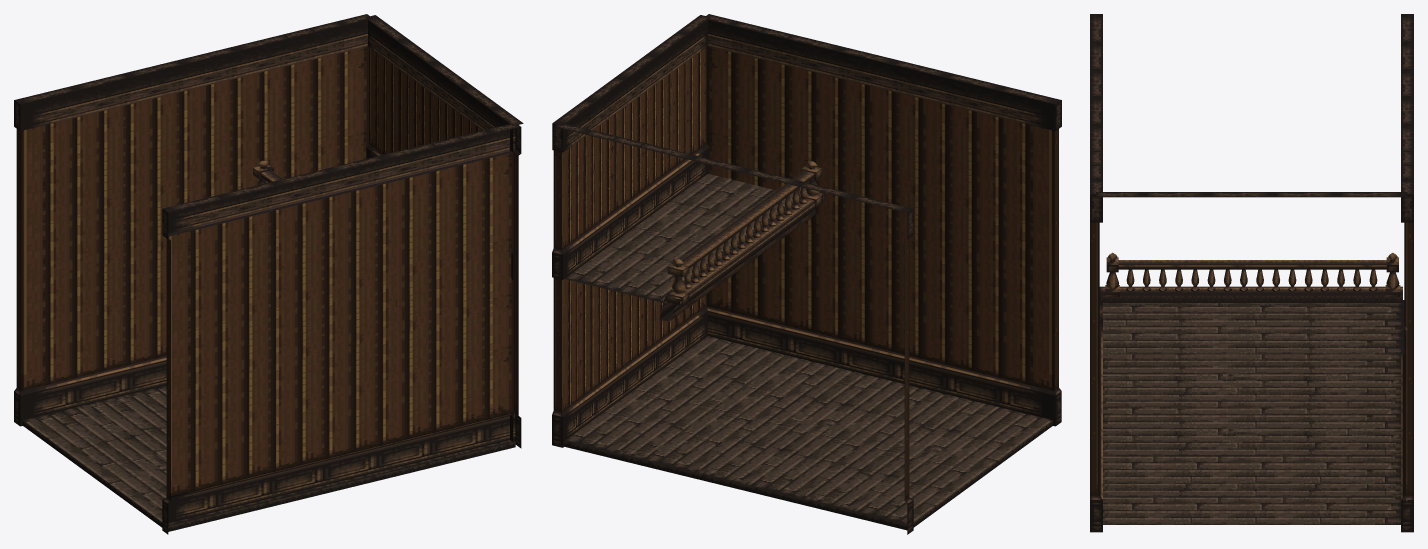
Rendered from EnvBdgMD_Wilderness_A_Indoor_A_Shop_Item_BR.FBX.
The picture shows the model from 3 angles, left to right: view 1: azimuth 30°, elevation 25°; view 2: azimuth 150°, elevation 25°; view 3: azimuth 270°, elevation 25°; orthographic projection. The views are drawn at different scales.
Visible parts, largest first — view 1: EnvBdgMD_Wilderness_A_Indoor_A_Shop_Item_BR; view 2: EnvBdgMD_Wilderness_A_Indoor_A_Shop_Item_BR; view 3: EnvBdgMD_Wilderness_A_Indoor_A_Shop_Item_BR.
Part boxes in pixels (box(x1,y1,x2,y2)): EnvBdgMD_Wilderness_A_Indoor_A_Shop_Item_BR: box(14, 14, 523, 534); EnvBdgMD_Wilderness_A_Indoor_A_Shop_Item_BR: box(552, 14, 1061, 534); EnvBdgMD_Wilderness_A_Indoor_A_Shop_Item_BR: box(1090, 14, 1413, 532).
Bounding box in the file's own units: 1340 × 1150 × 1000.
1 material, 1 textured.
